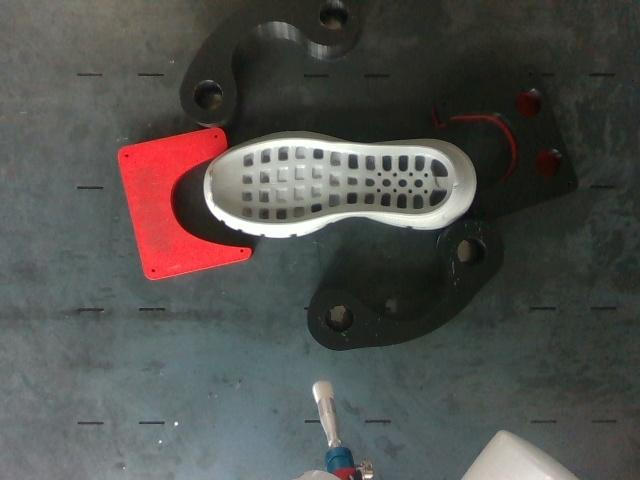shoes: (209, 139, 455, 225)
